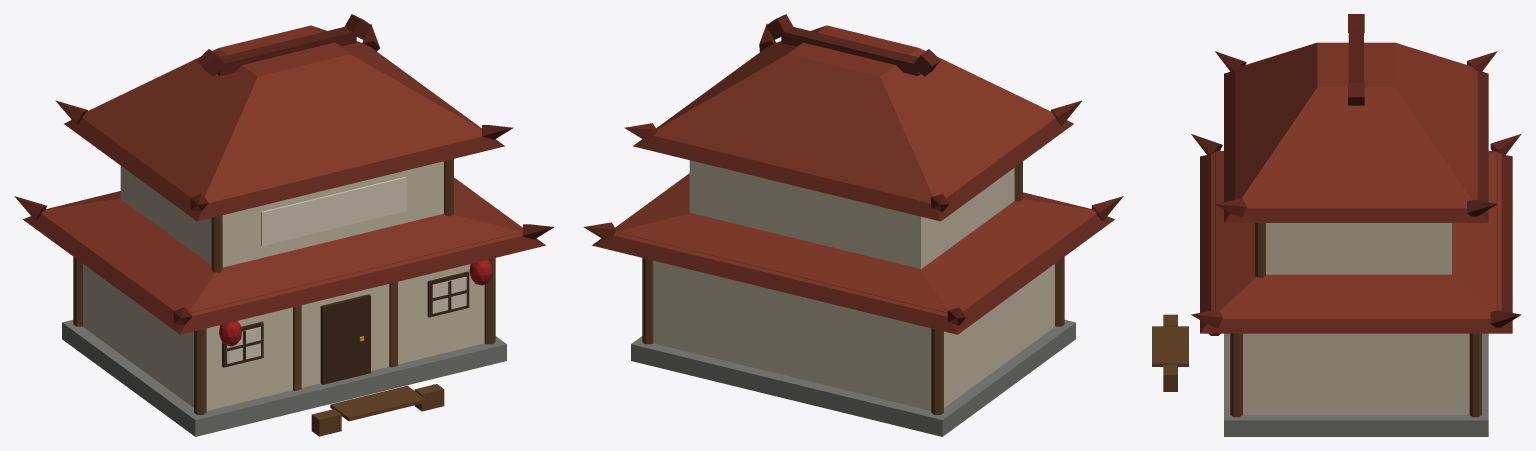
Rendered from SM_GZ_inn_ember.fbx.
3 views of the same model, side by side, from view 1: azimuth 30°, elevation 25°; view 2: azimuth 150°, elevation 25°; view 3: azimuth 270°, elevation 25° (orthographic).
Parts seen in each view (by area): view 1: SM_GZ_inn_ember; view 2: SM_GZ_inn_ember; view 3: SM_GZ_inn_ember.
Part boxes in pixels (x1,y1,x2,y2): SM_GZ_inn_ember: [14, 14, 554, 436]; SM_GZ_inn_ember: [583, 14, 1123, 436]; SM_GZ_inn_ember: [1152, 14, 1521, 436].
Bounding box in the file's own units: 1164 × 939 × 1005.
